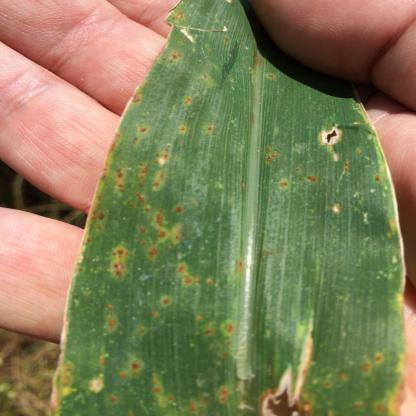corn rust leaf: (59, 1, 410, 416)
